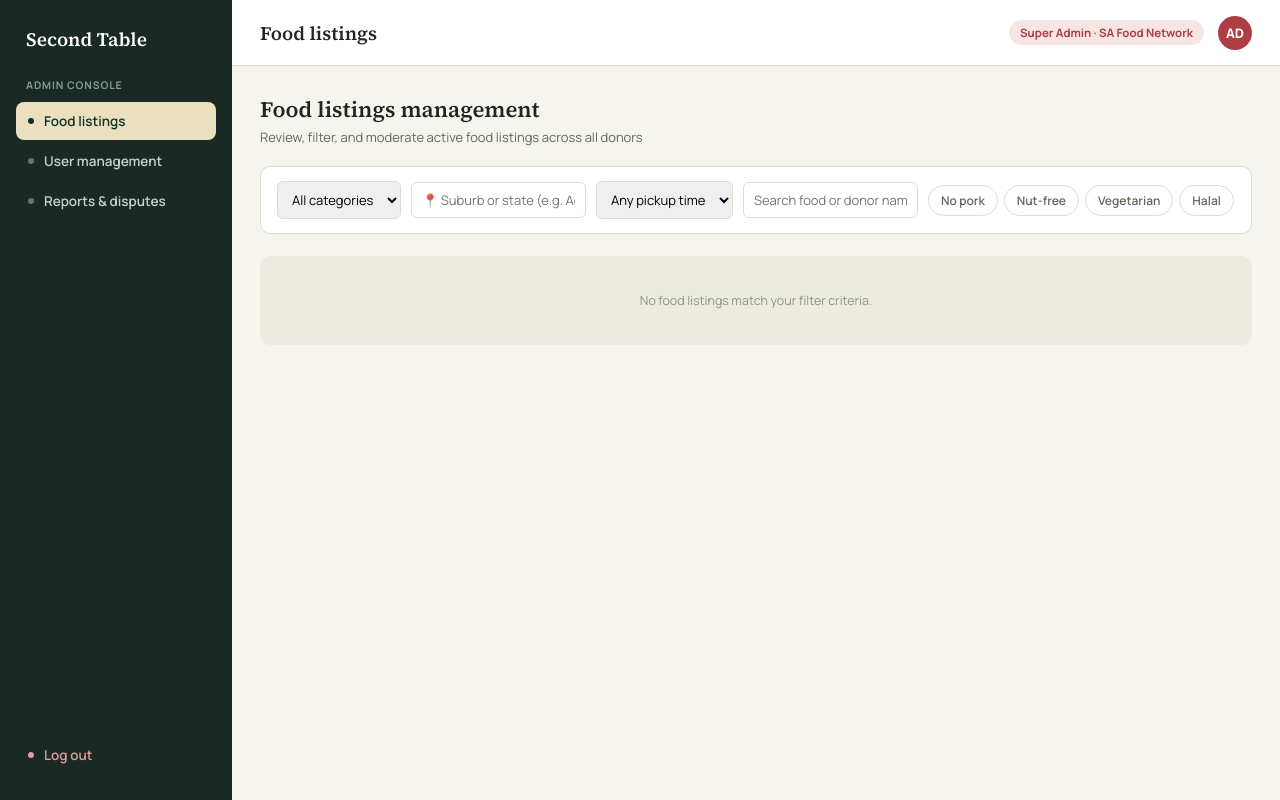
Test: deactivates an account permanently with a reason from the modal
Click the element with class "sb-item" showing "User management".
click(95, 161)  # box [28,152,162,170]
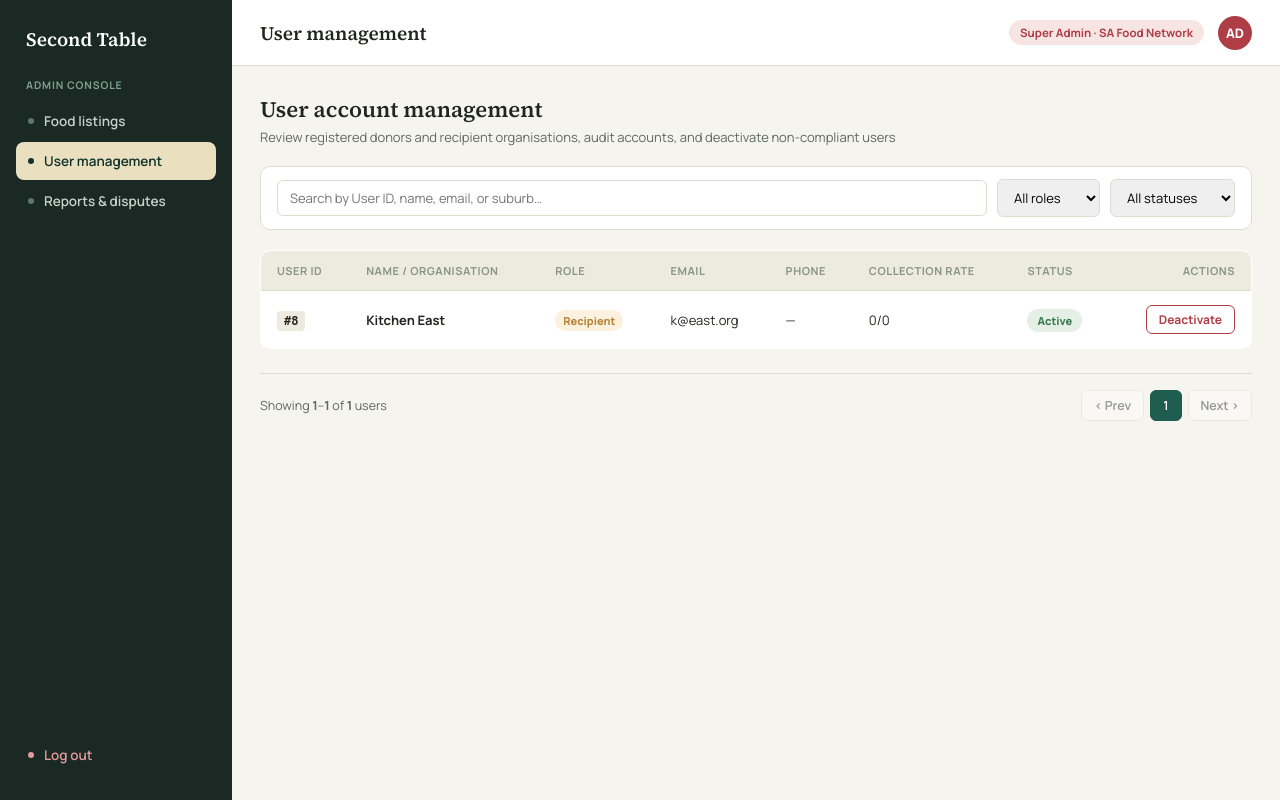
Click the button with class "btn-deactivate".
click(1190, 320)  # box [1146,305,1235,334]
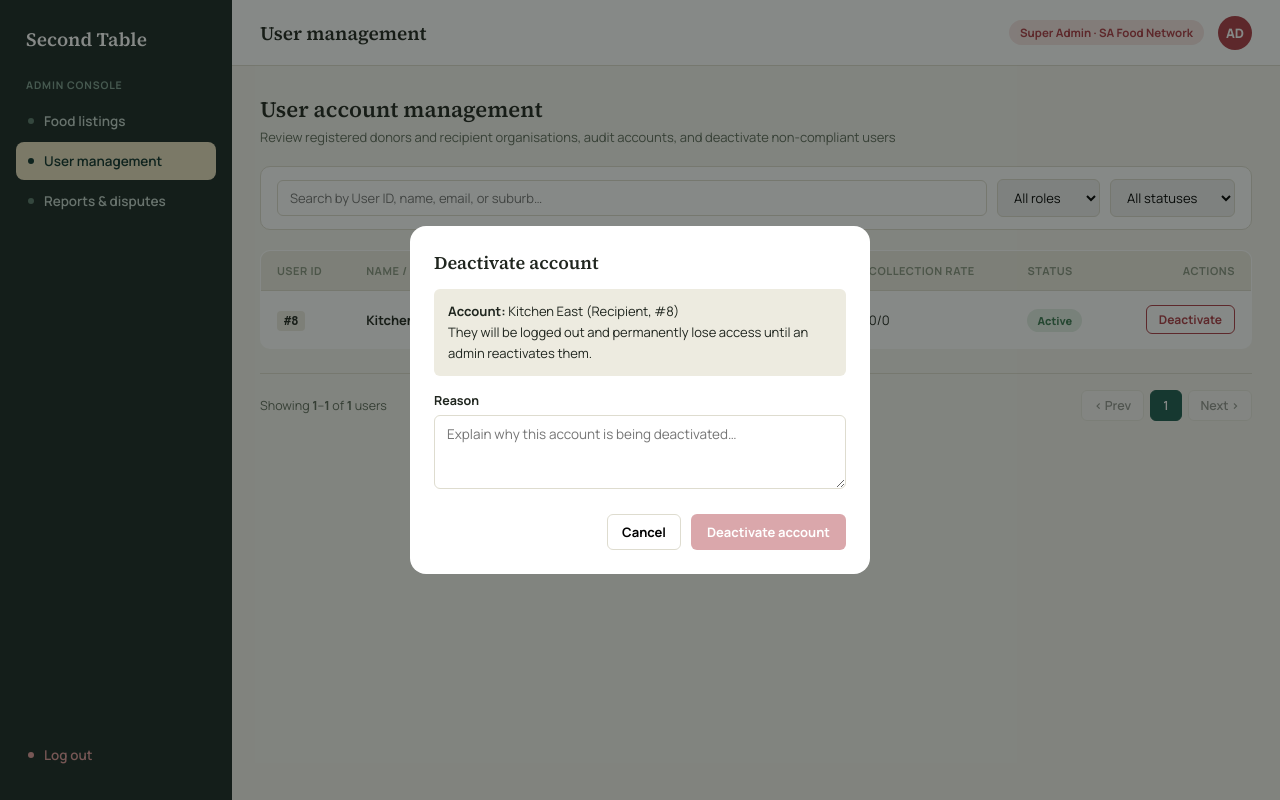
expect the button with class "btn-danger-confirm" is disabled: met, box [691,514,846,550]
Type "Repeated no-shows" into the text box with placeholder "Explain why this account is being deactivated…".
click(640, 452); type("Repeated no-shows")  # box [434,415,846,489]
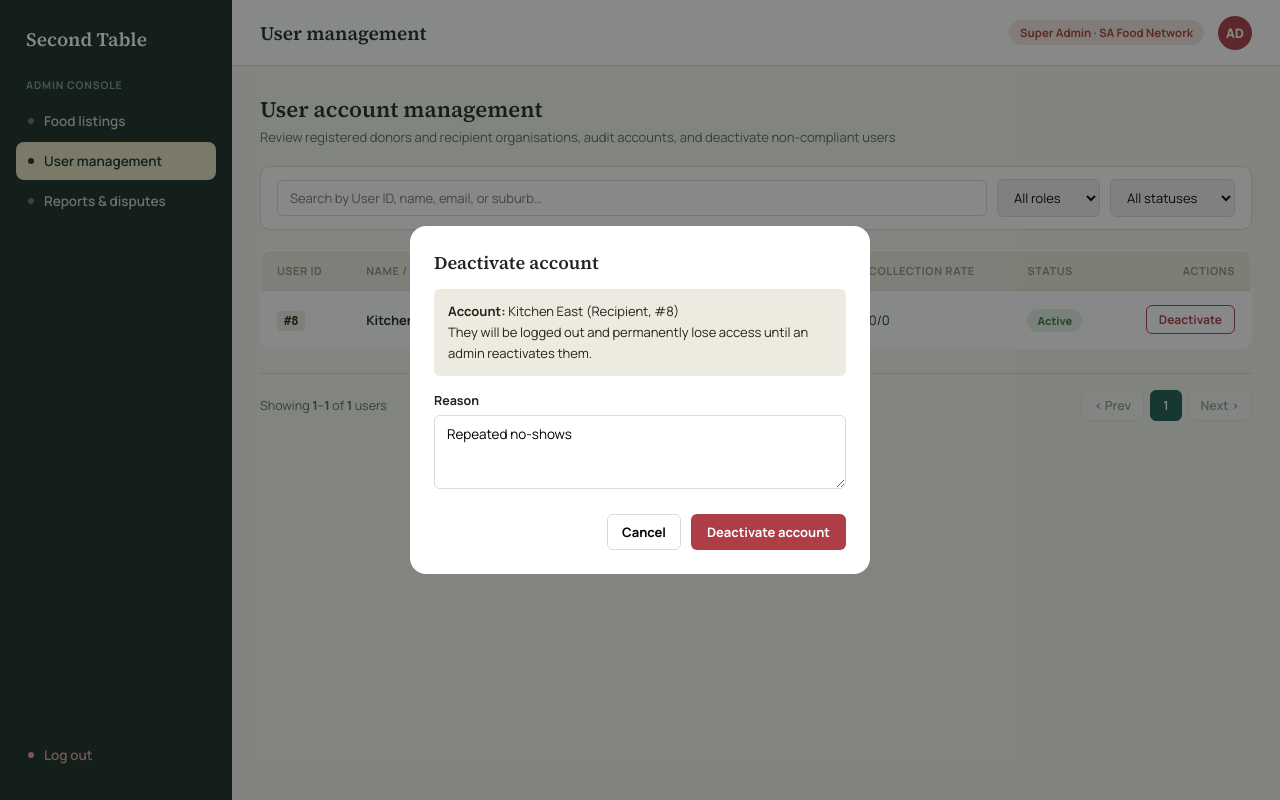
Click the button with class "btn-danger-confirm".
click(768, 532)  # box [691,514,846,550]
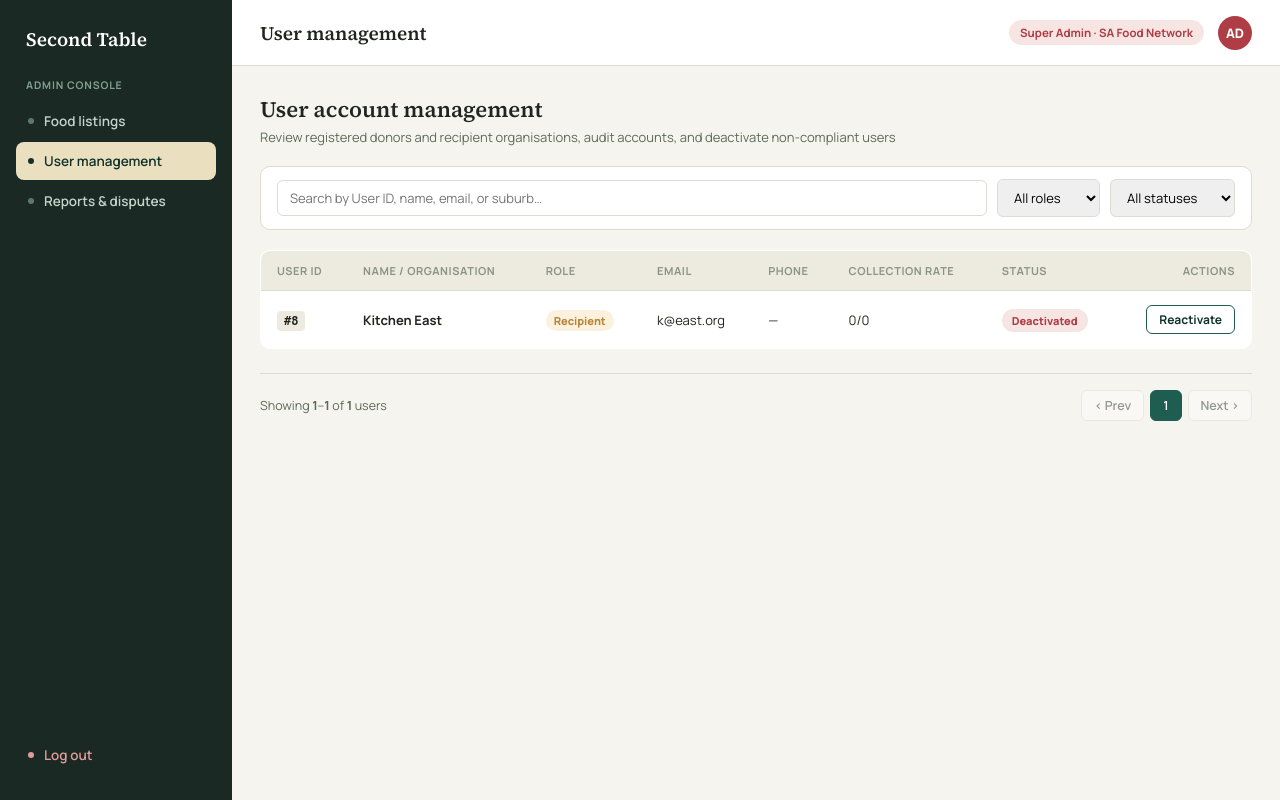
expect the row that starts with "Kitchen East" shows "Deactivated": met, box [1012,312,1078,328]
